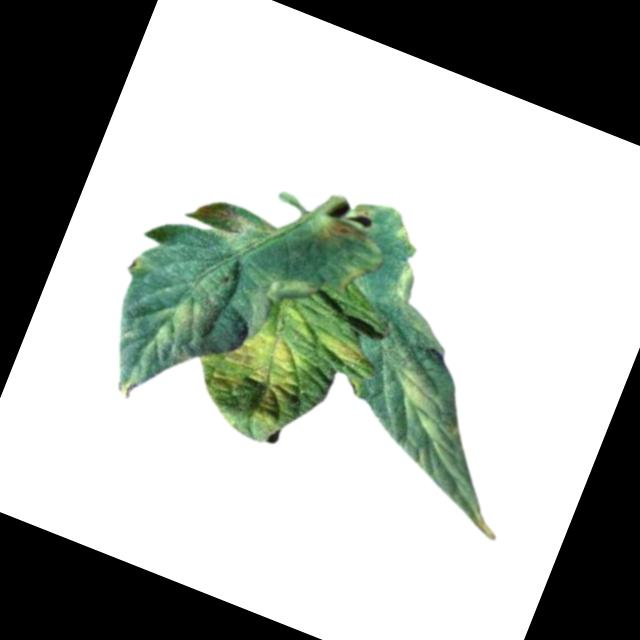Leaf_Mold: (187, 310, 316, 438), (379, 359, 464, 445), (140, 285, 221, 373), (185, 194, 264, 258), (312, 212, 371, 257), (311, 325, 368, 371)
